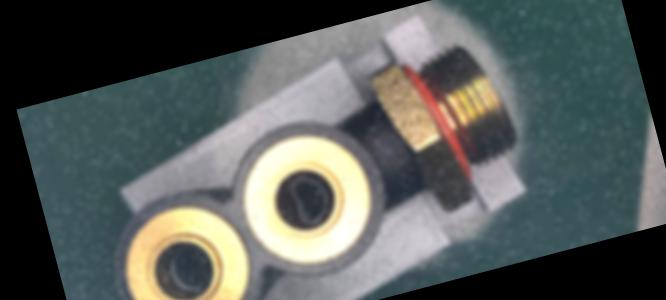off-centered: (279, 162, 339, 234), (159, 236, 218, 300)
